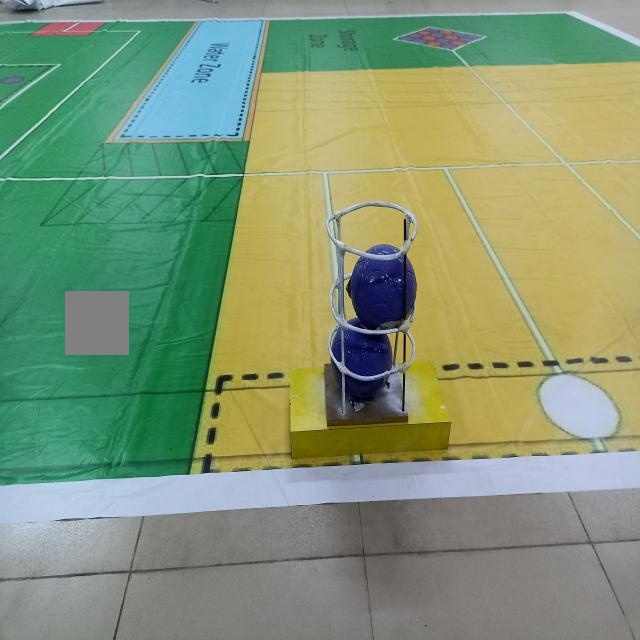purple_ball: (346, 243, 417, 328), (329, 318, 394, 398)
silo: (318, 195, 423, 442)
